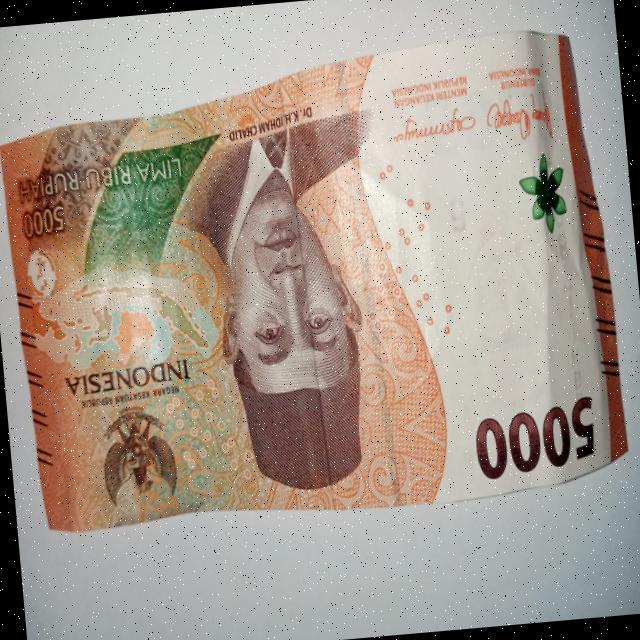5K: (0, 13, 640, 549)
